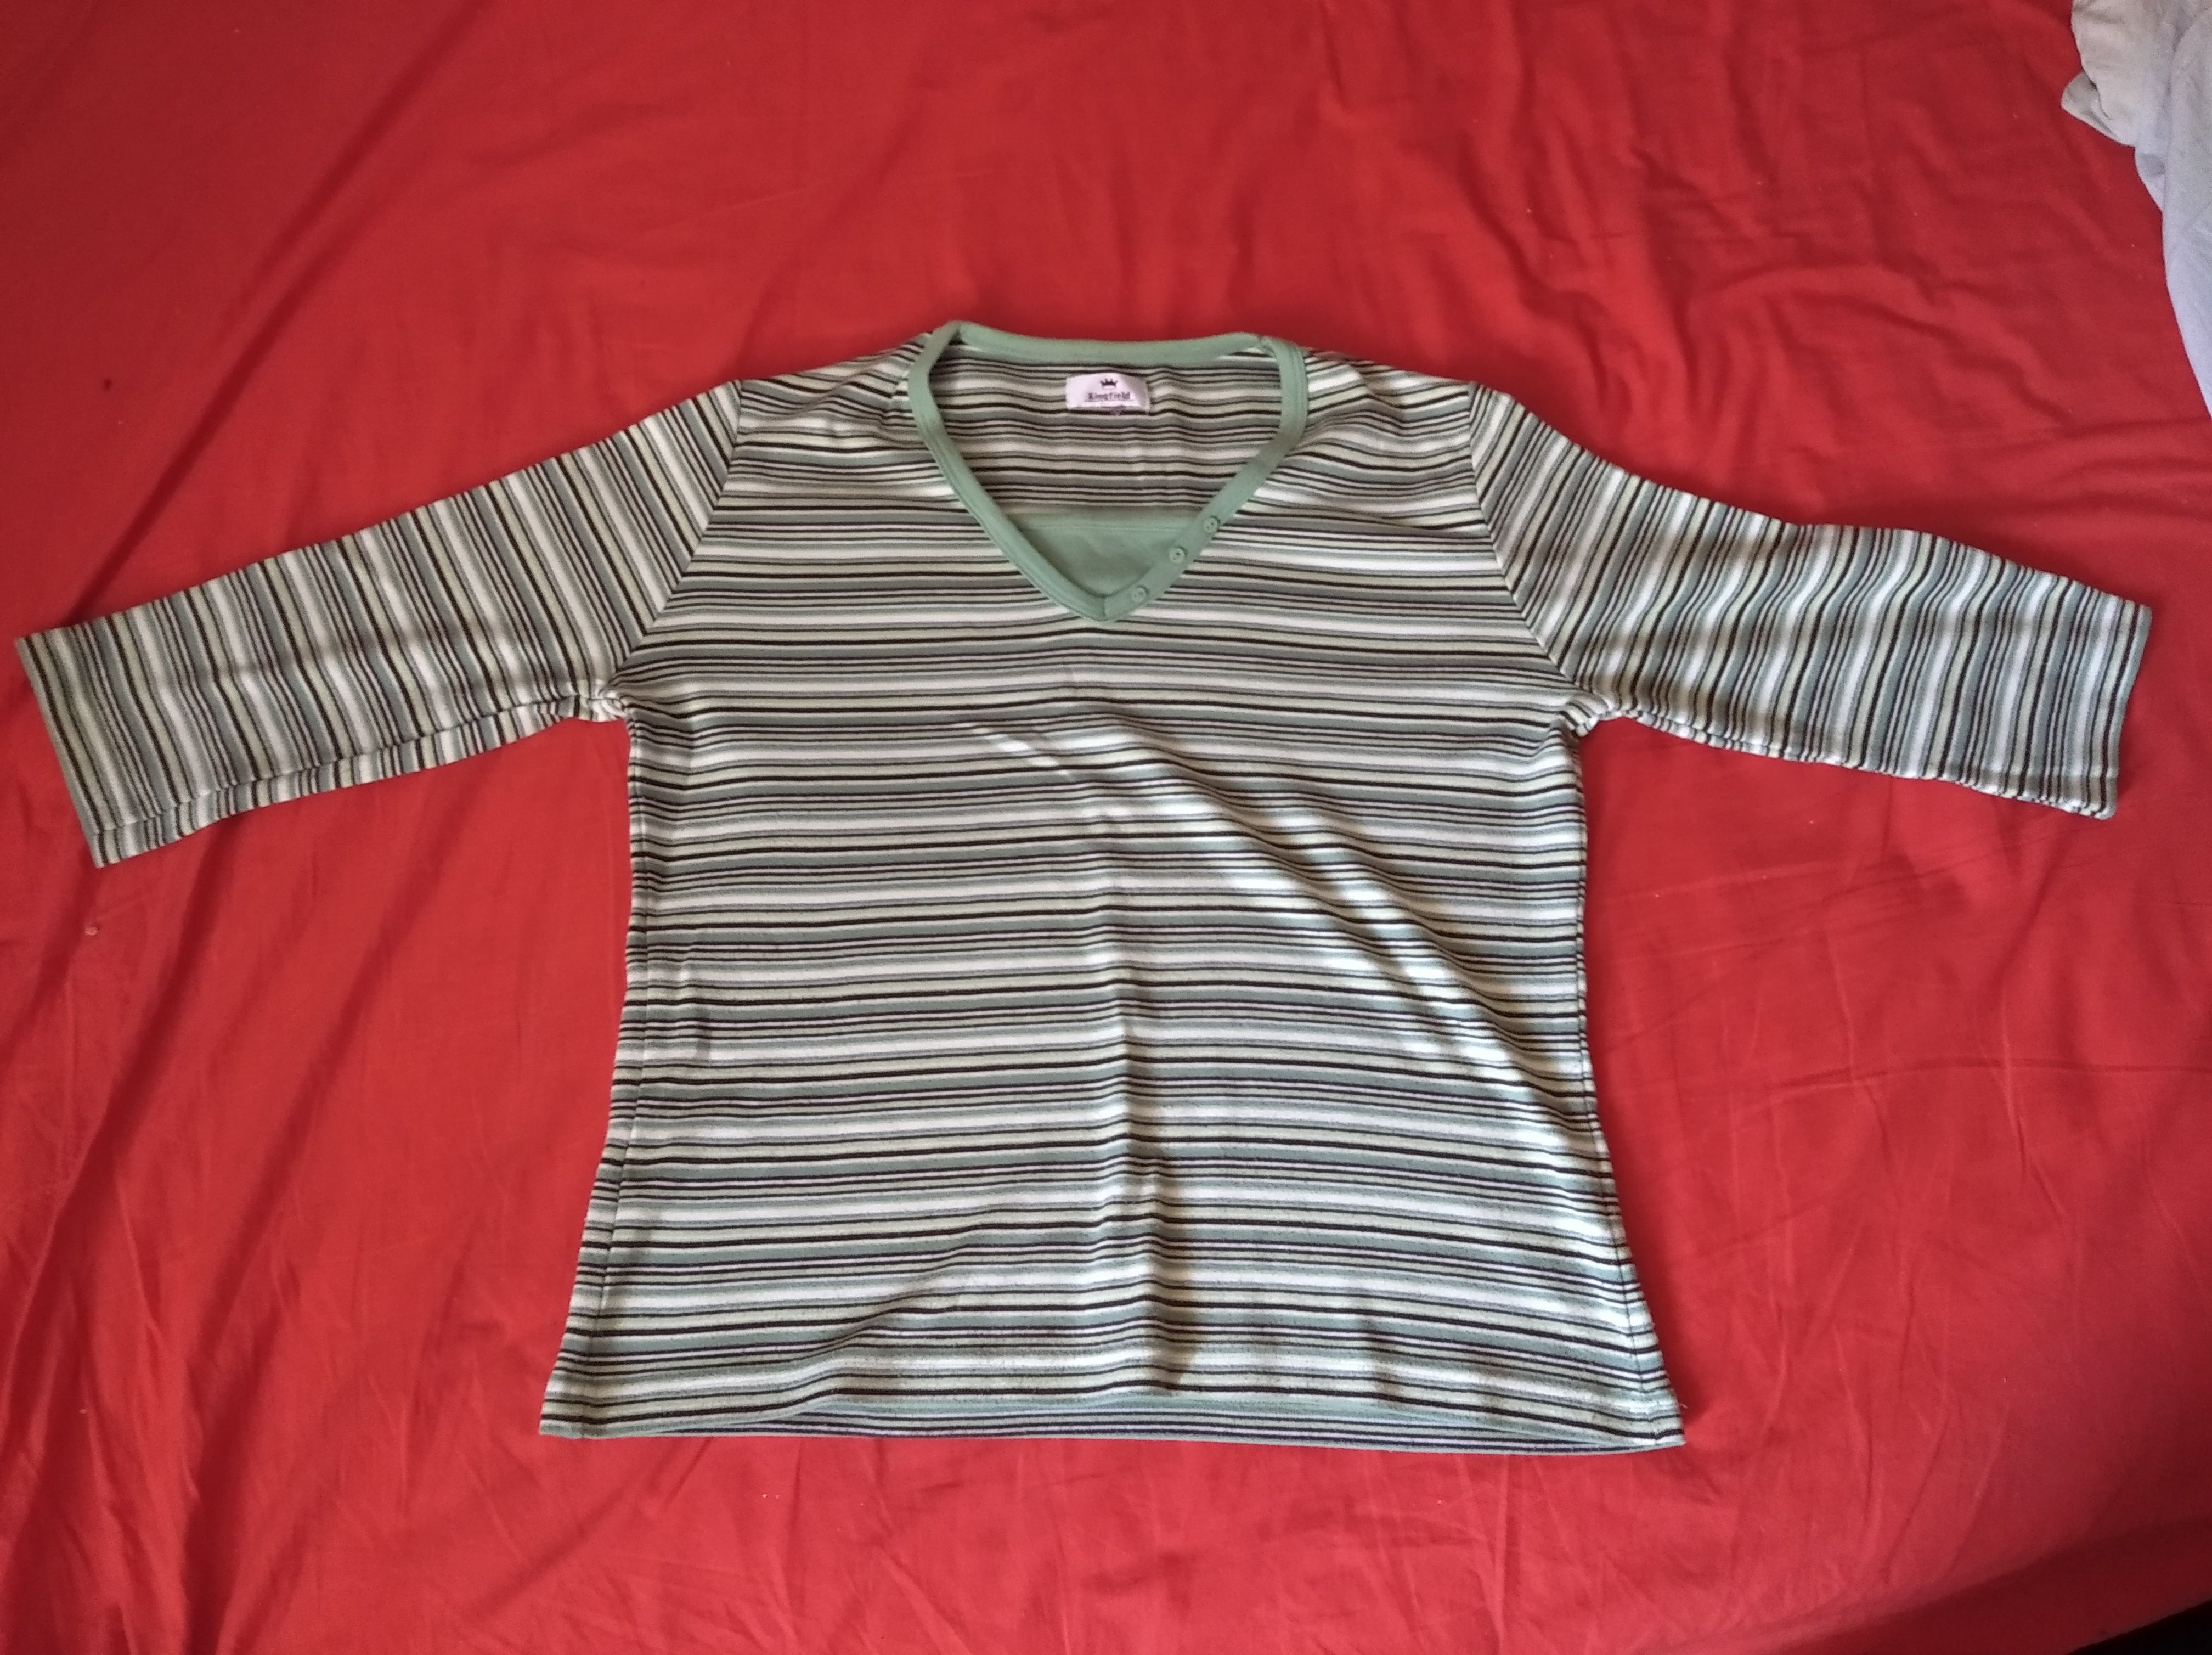clothes: (16, 278, 2130, 1460)
